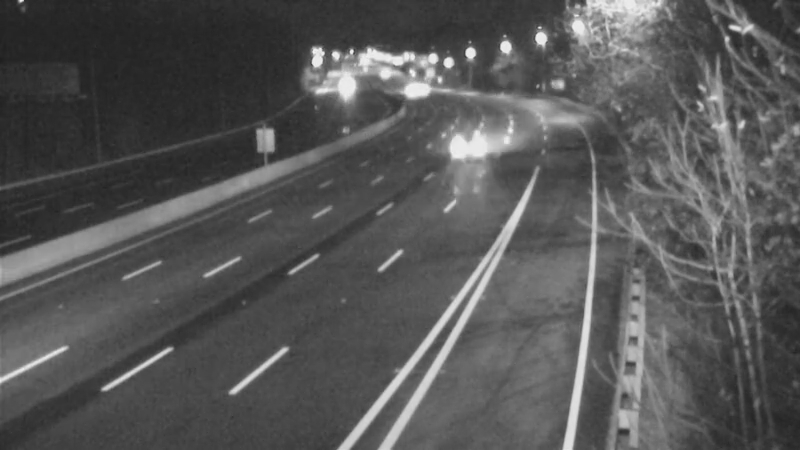vehicle: (399, 64, 449, 114), (383, 67, 433, 117), (441, 121, 491, 171), (325, 60, 375, 110)
